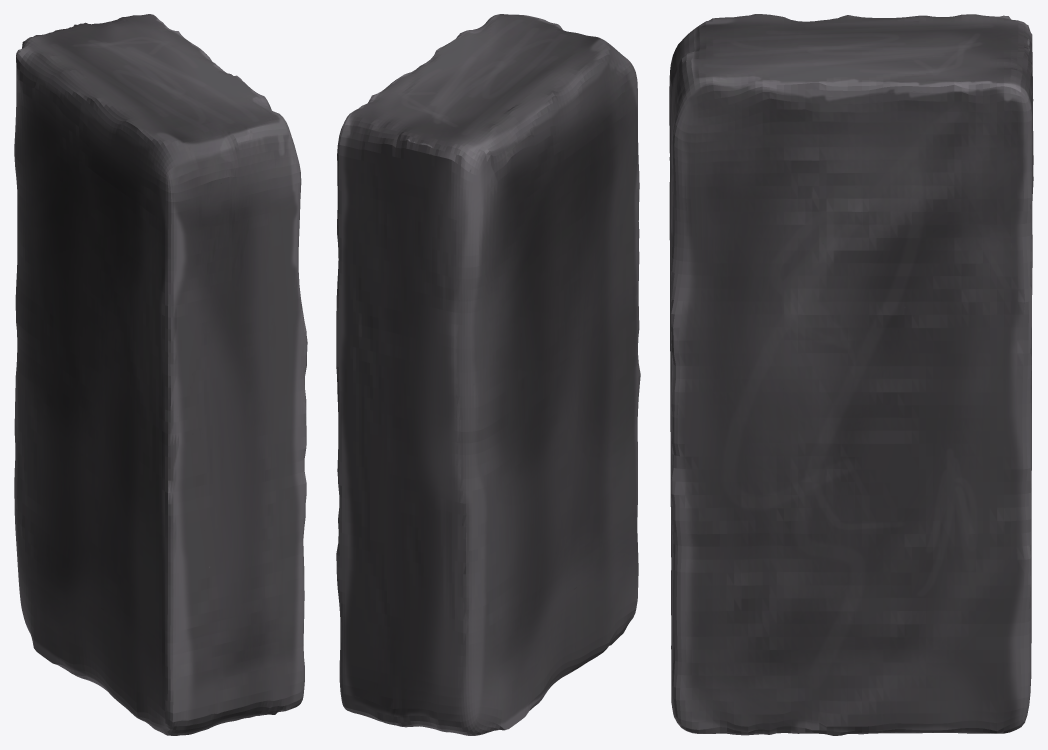
The model's file is wall.fbx.
3 views of the same model, side by side, from view 1: azimuth 30°, elevation 25°; view 2: azimuth 150°, elevation 25°; view 3: azimuth 270°, elevation 25° (orthographic). The views are drawn at different scales.
Visible parts, largest first — view 1: Cube; view 2: Cube; view 3: Cube.
Boxes of the visible parts, x1=… form: Cube: x1=14, y1=14, x2=307, y2=735; Cube: x1=336, y1=14, x2=640, y2=735; Cube: x1=669, y1=14, x2=1033, y2=735.
Size of the model in its own units: 101 by 401 by 202.
Materials: 1 (1 with a texture image).
